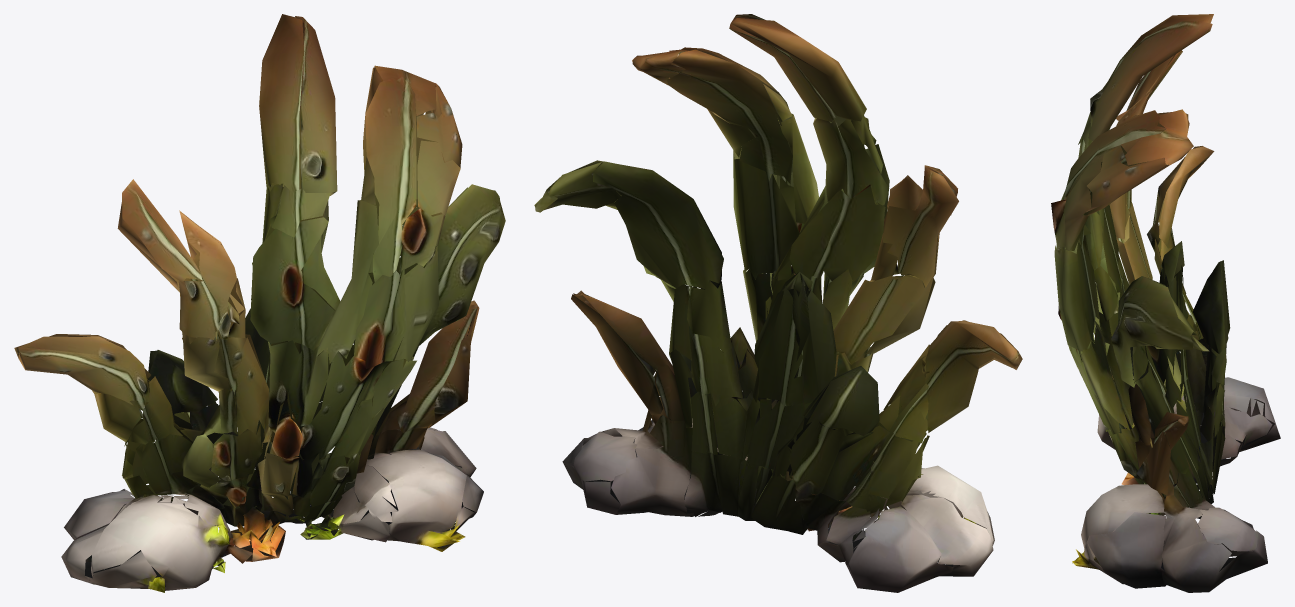
File: algas.glb
3 renders of one model, left to right at view 1: azimuth 30°, elevation 25°; view 2: azimuth 150°, elevation 25°; view 3: azimuth 270°, elevation 25°, orthographic.
Visible parts, largest first — view 1: tripo_node_d69ae135-425c-47bd-b1c9-d9ab847d06f7; view 2: tripo_node_d69ae135-425c-47bd-b1c9-d9ab847d06f7; view 3: tripo_node_d69ae135-425c-47bd-b1c9-d9ab847d06f7.
Boxes of the visible parts, x1=… form: tripo_node_d69ae135-425c-47bd-b1c9-d9ab847d06f7: x1=14, y1=14, x2=505, y2=592; tripo_node_d69ae135-425c-47bd-b1c9-d9ab847d06f7: x1=534, y1=14, x2=1022, y2=592; tripo_node_d69ae135-425c-47bd-b1c9-d9ab847d06f7: x1=1051, y1=14, x2=1280, y2=592.
Size of the model in its own units: 0.9632 by 0.9798 by 0.4011.
Materials: 1 (1 with a texture image).
